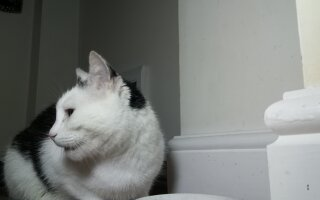bad: (4, 52, 169, 199)
